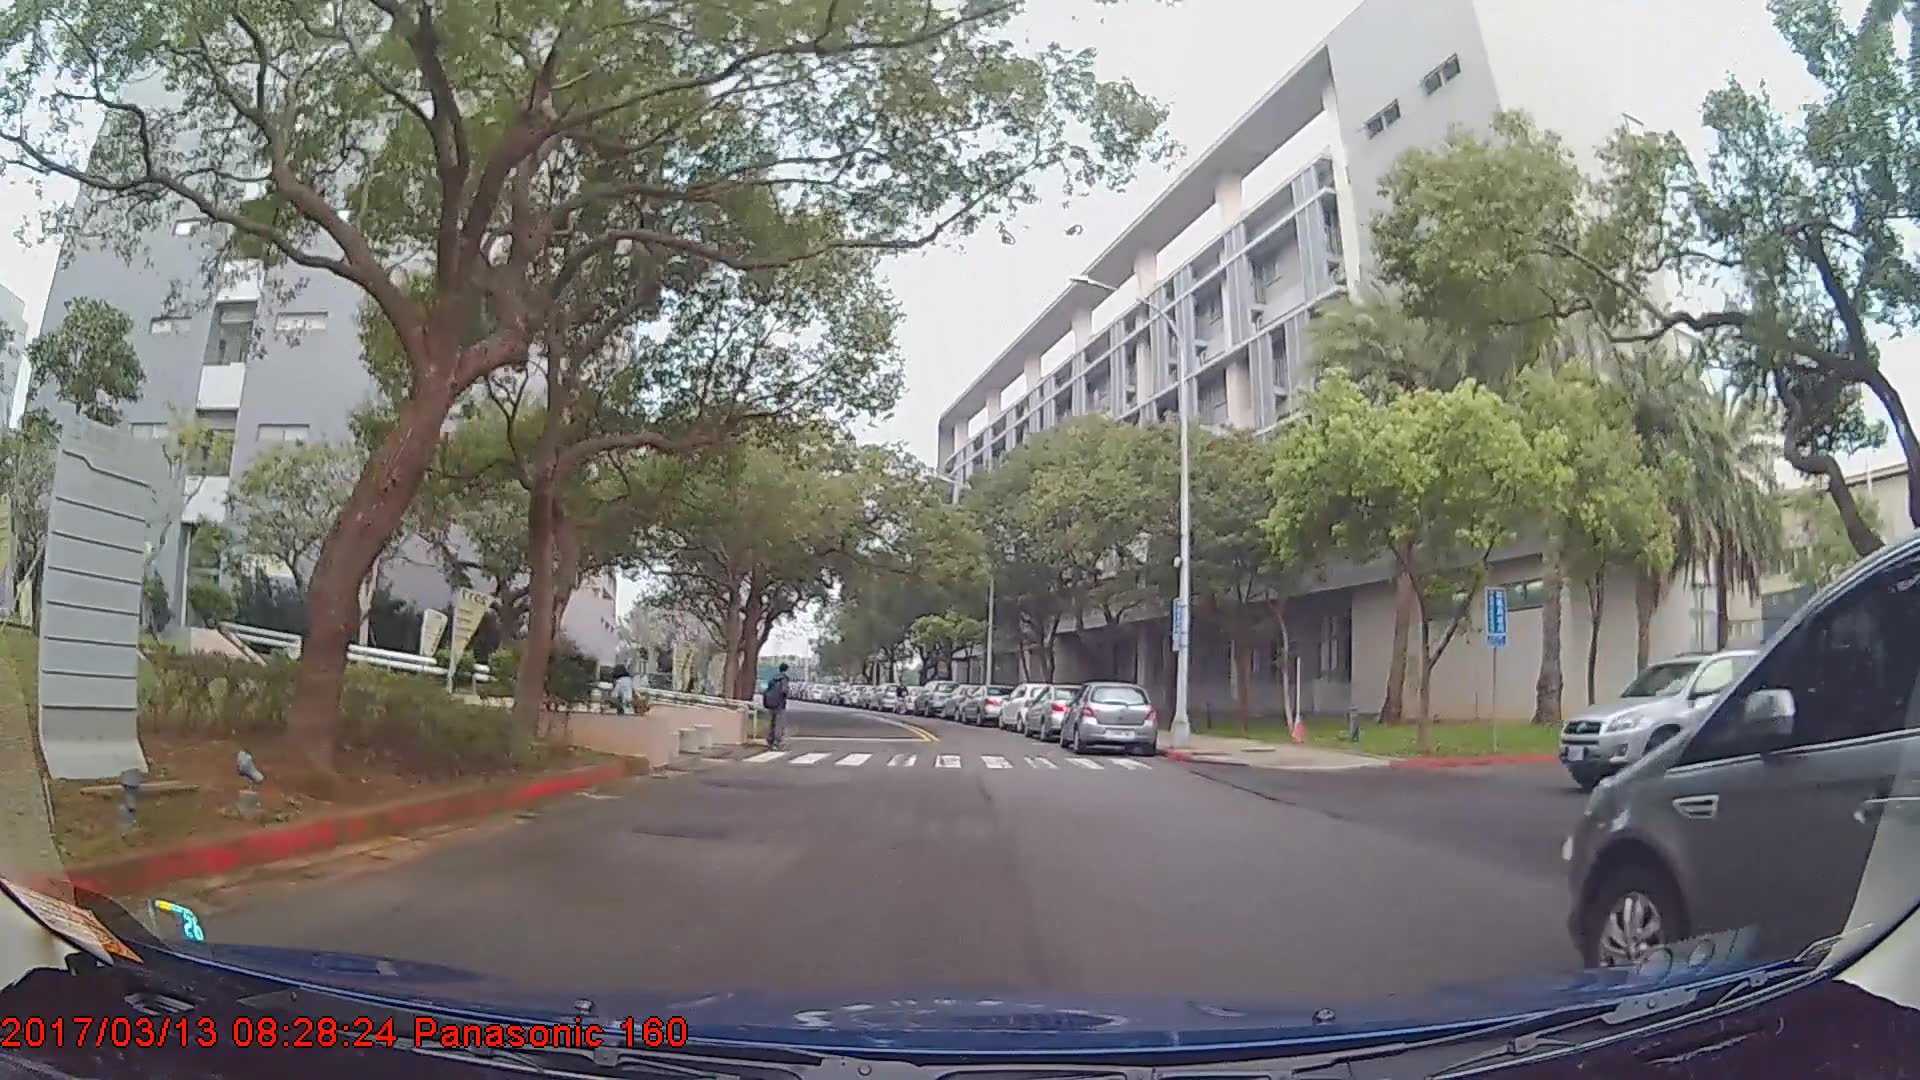pedestrian: (598, 666, 654, 756), (761, 662, 794, 754)
vehicle: (1573, 537, 1920, 1006), (1558, 645, 1819, 786), (1058, 679, 1155, 757), (1019, 680, 1108, 739), (996, 678, 1070, 736), (959, 681, 1011, 721), (912, 679, 956, 716)
